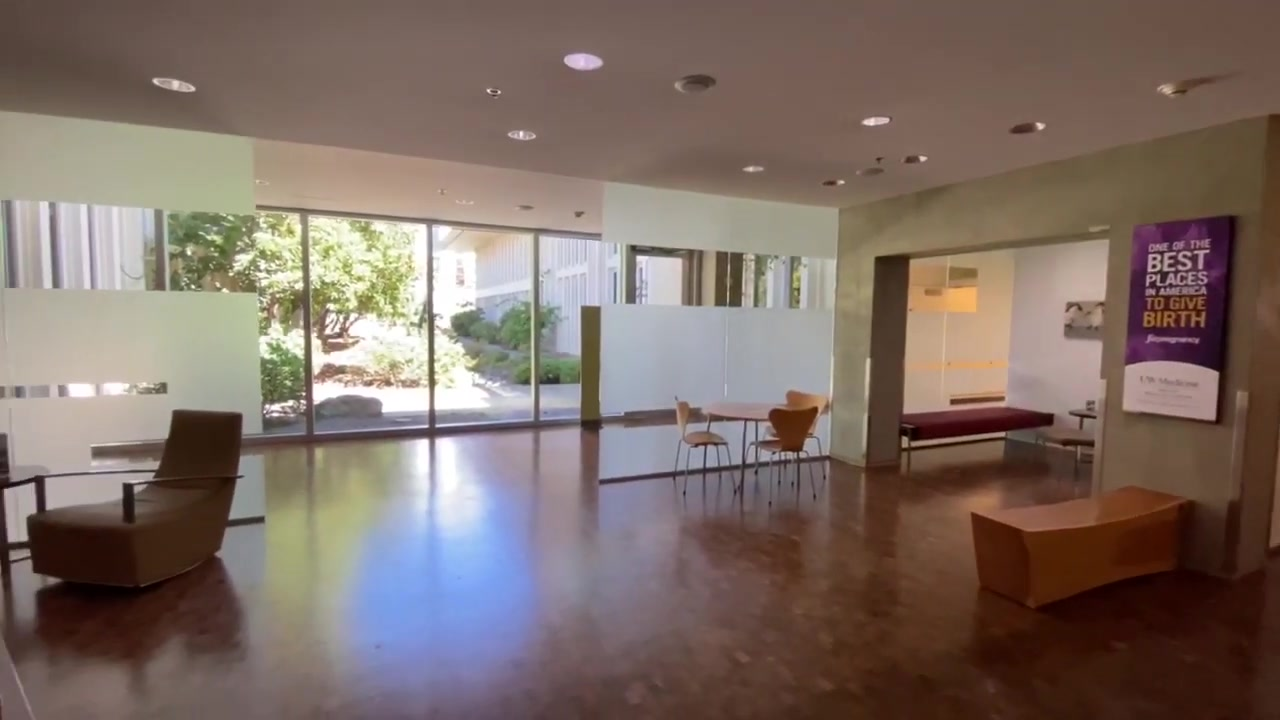chair: (972, 486, 1195, 605), (671, 394, 731, 504), (757, 405, 820, 508), (776, 389, 829, 489), (1034, 408, 1101, 470)
sofa: (26, 408, 247, 589), (902, 404, 1057, 470)
table: (702, 399, 798, 499)
